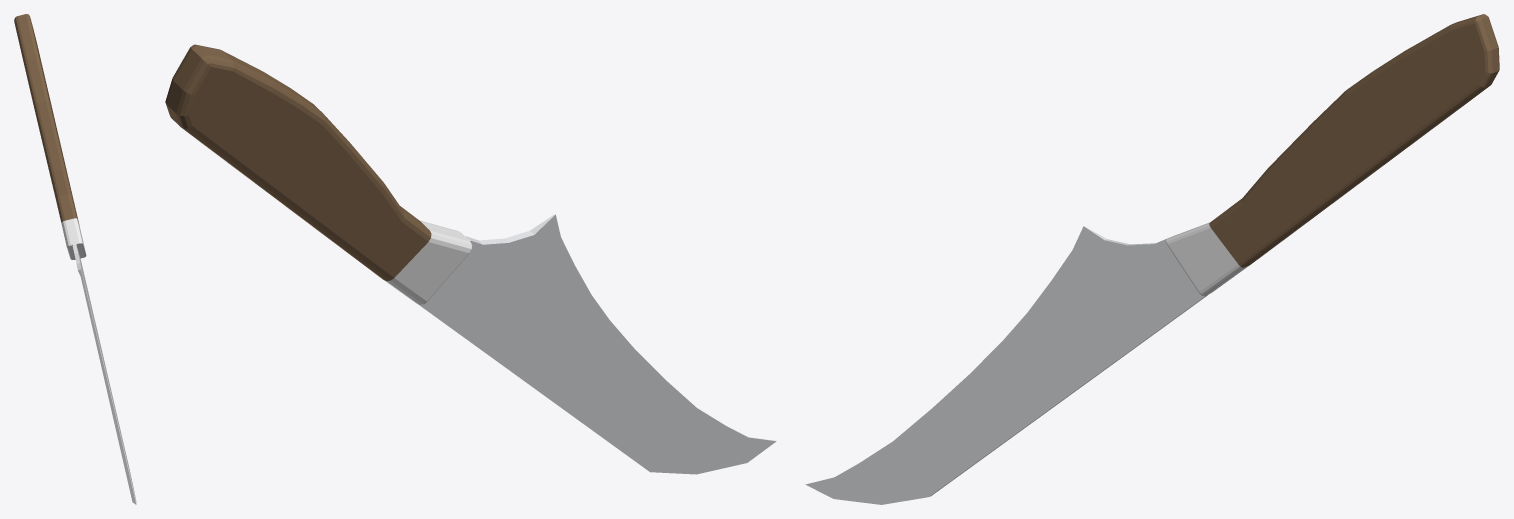
The model's file is knife.fbx.
The picture shows the model from 3 angles, left to right: view 1: azimuth 30°, elevation 25°; view 2: azimuth 150°, elevation 25°; view 3: azimuth 270°, elevation 25°; orthographic projection. The views are drawn at different scales.
Parts seen in each view (by area): view 1: Plane; view 2: Plane; view 3: Plane.
Boxes of the visible parts, box(x1,y1,x2,y2) form: Plane: box(14, 14, 136, 504); Plane: box(165, 44, 776, 474); Plane: box(805, 14, 1499, 504).
Size of the model in its own units: 90.28 by 277 by 317.
